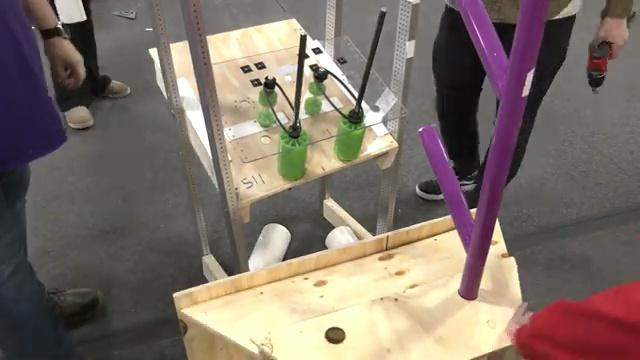CORAL: (246, 221, 291, 272), (326, 226, 359, 250)
